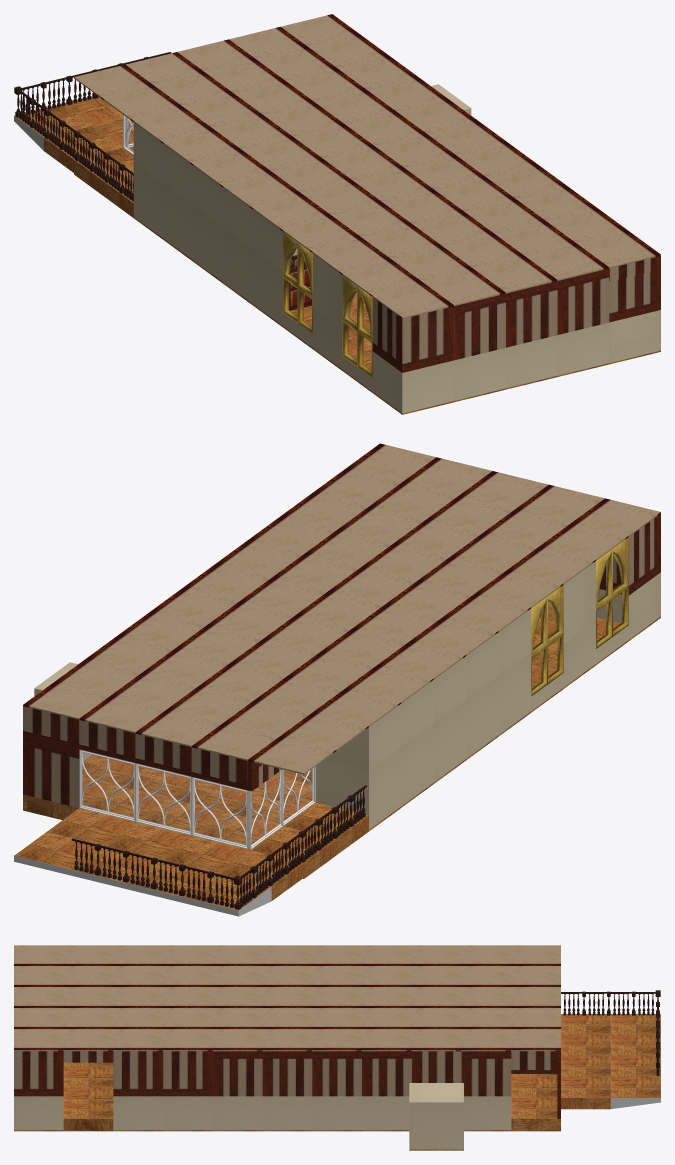
Rendered from Bedroom.fbx.
3 views of the same model, one above another, from view 1: azimuth 30°, elevation 25°; view 2: azimuth 150°, elevation 25°; view 3: azimuth 270°, elevation 25° (orthographic). The views are drawn at different scales.
Visible parts, largest first — view 1: BedroomCeiling, BedroomWallB0LeftFirePlace, BedroomWallB1Front, BedroomWallB0Front, BedroomBalconyFloor, BedroomWallB1Left, BedroomWallB0LeftWindow, BedroomWallB0Left, BedroomBalconyRail, BedroomWallB1Right, BedroomWallB0Right, BedroomWallWindow (+6 smaller); view 2: BedroomCeiling, BedroomWallB0LeftFirePlace, BedroomBalconyFloor, BedroomFloorStairs, BedroomWindowCeiling, BedroomWallB0LeftWindow, BedroomWallB0Back, BedroomBalconyRail, BedroomBalconyRail.001, BedroomFloor, BedroomWallB1Left, BedroomWallWindow.001 (+8 smaller); view 3: BedroomCeiling, BedroomBalconyFloor, BedroomWallB1Right.001, BedroomWallB0Right.001, BedroomWallB1Right.002, BedroomWallHiddenRoom, BedroomWallB0Right.002, BedroomFloor, BedroomFloorStairs, BedroomWallB0Right.006, BedroomWallB1Right, BedroomWallB0Right (+7 smaller).
Part boxes in pixels (x1,y1,x2,y2): BedroomCeiling: (74, 14, 660, 318); BedroomWallB0LeftFirePlace: (133, 122, 311, 325); BedroomWallB1Front: (454, 268, 609, 360); BedroomWallB0Front: (454, 322, 609, 400); BedroomBalconyFloor: (14, 96, 133, 216); BedroomWallB1Left: (372, 297, 453, 372); BedroomWallB0LeftWindow: (283, 253, 372, 391); BedroomWallB0Left: (372, 351, 453, 413); BedroomBalconyRail: (30, 98, 133, 201); BedroomWallB1Right: (609, 269, 660, 322); BedroomWallB0Right: (609, 310, 660, 362); BedroomWallWindow: (342, 275, 372, 377); BedroomCeiling: (23, 443, 660, 774); BedroomWallB0LeftFirePlace: (315, 608, 531, 829); BedroomBalconyFloor: (14, 802, 368, 916); BedroomFloorStairs: (23, 755, 302, 844); BedroomWindowCeiling: (23, 706, 247, 790); BedroomWallB0LeftWindow: (531, 561, 628, 710); BedroomWallB0Back: (23, 735, 79, 807); BedroomBalconyRail: (250, 785, 366, 898); BedroomBalconyRail.001: (71, 838, 213, 903); BedroomFloor: (23, 603, 660, 878); BedroomWallB1Left: (599, 513, 660, 595); BedroomWallWindow.001: (531, 585, 563, 696); BedroomCeiling: (14, 945, 560, 1051); BedroomBalconyFloor: (561, 1014, 660, 1109); BedroomWallB1Right.001: (213, 1051, 411, 1096); BedroomWallB0Right.001: (213, 1096, 409, 1130); BedroomWallB1Right.002: (113, 1051, 212, 1096); BedroomWallHiddenRoom: (409, 1083, 463, 1150); BedroomWallB0Right.002: (113, 1096, 212, 1130); BedroomFloor: (14, 1062, 560, 1131); BedroomFloorStairs: (511, 1074, 560, 1130); BedroomWallB0Right.006: (461, 1051, 511, 1096); BedroomWallB1Right: (14, 1055, 63, 1096); BedroomWallB0Right: (14, 1096, 63, 1130).
Bounding box in the file's own units: 1185 × 360 × 2602.
